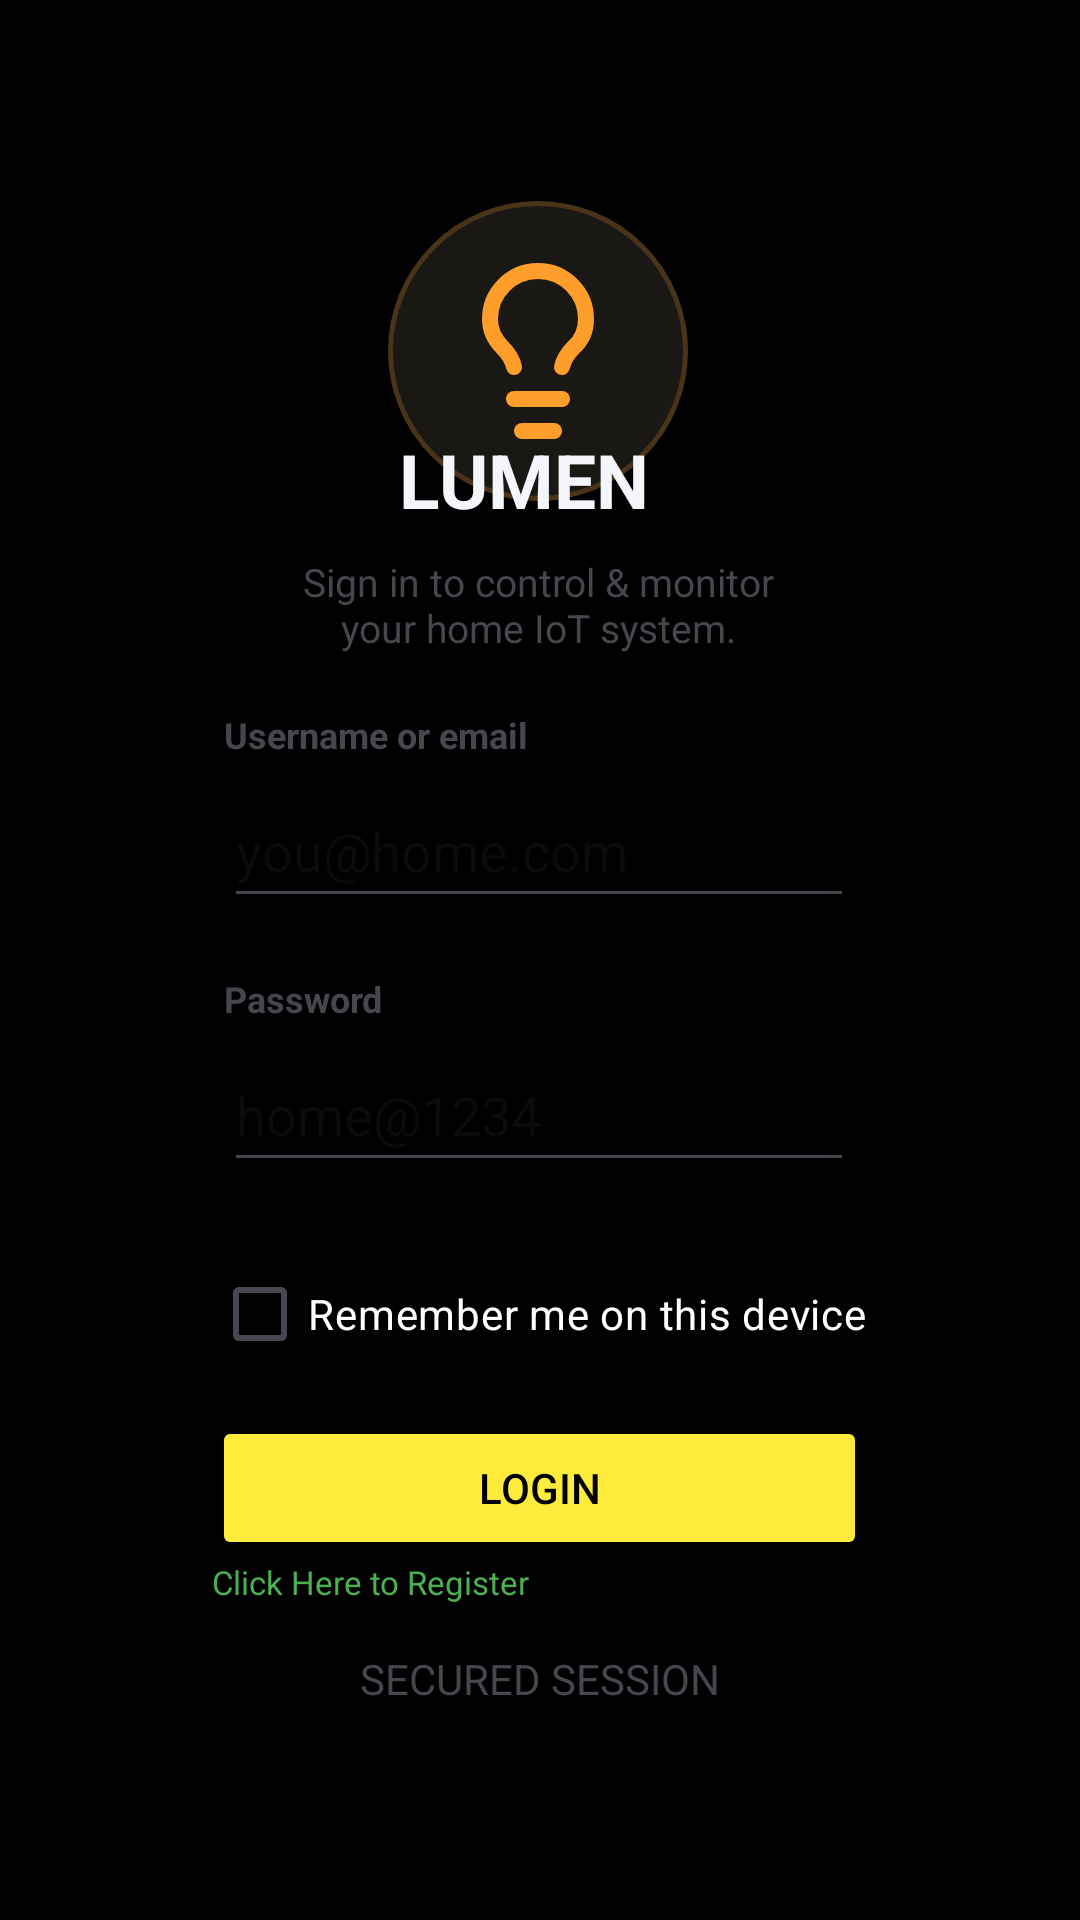

Locate icon controls on the screen. Image size 1080×1920, boxes as (x1, y1, x2, y2).
lightbulb: (482, 263, 594, 439)
